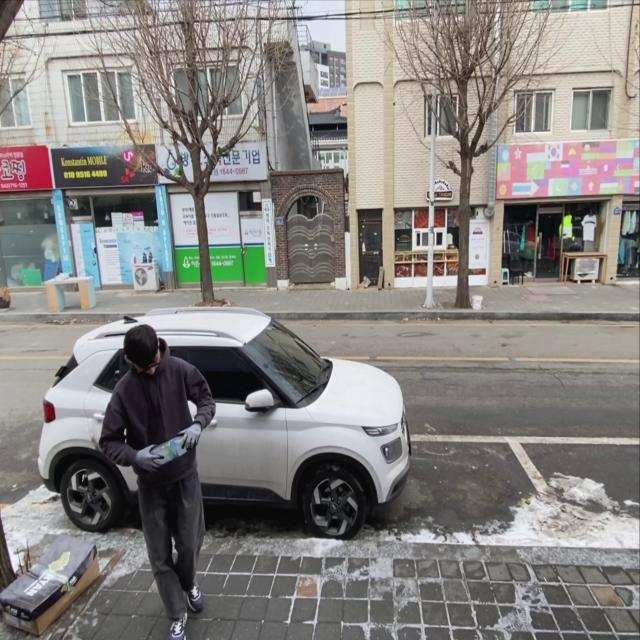gloved_hand: (176, 421, 203, 454), (135, 445, 165, 474)
